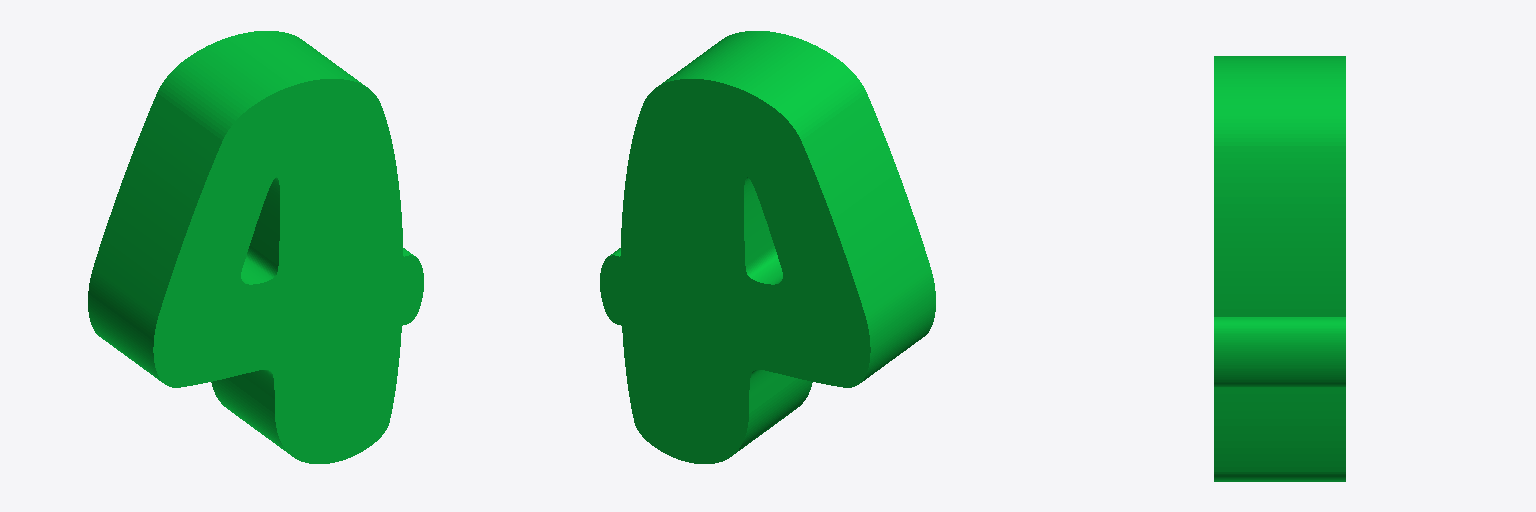
The model's file is Number4.obj.
3 views of the same model, side by side, from view 1: azimuth 30°, elevation 25°; view 2: azimuth 150°, elevation 25°; view 3: azimuth 270°, elevation 25° (orthographic).
Parts seen in each view (by area): view 1: Text; view 2: Text; view 3: Text.
Part boxes in pixels (x1,y1,x2,y2): Text: (88,31,423,463); Text: (600,31,935,463); Text: (1214,56,1345,481).
Size of the model in its own units: 0.429 by 0.5873 by 0.18.